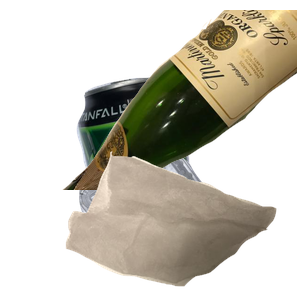glass: (60, 10, 300, 190)
metal: (74, 74, 257, 254)
plastic: (77, 133, 289, 300)
trash: (63, 149, 300, 300)
